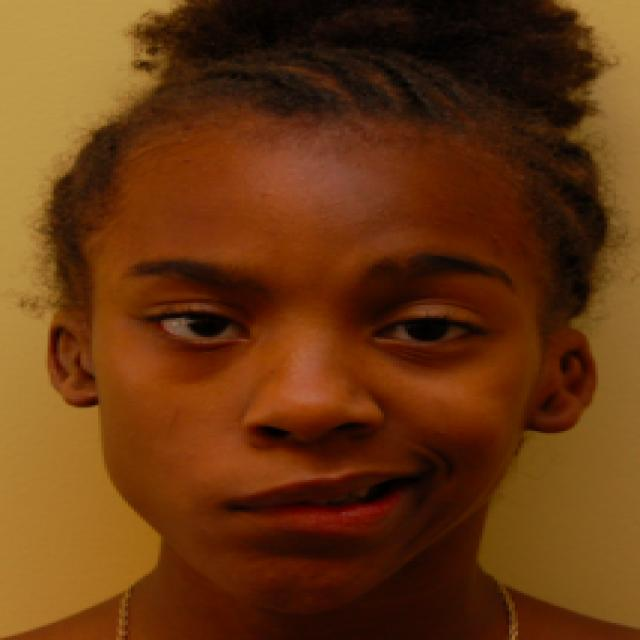stroke_face: (58, 89, 595, 621)
